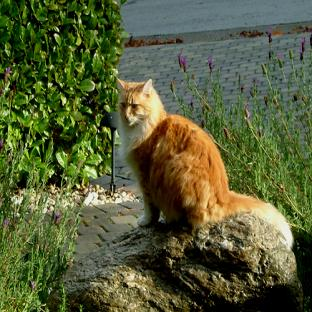Animal: (118, 78, 293, 246)
